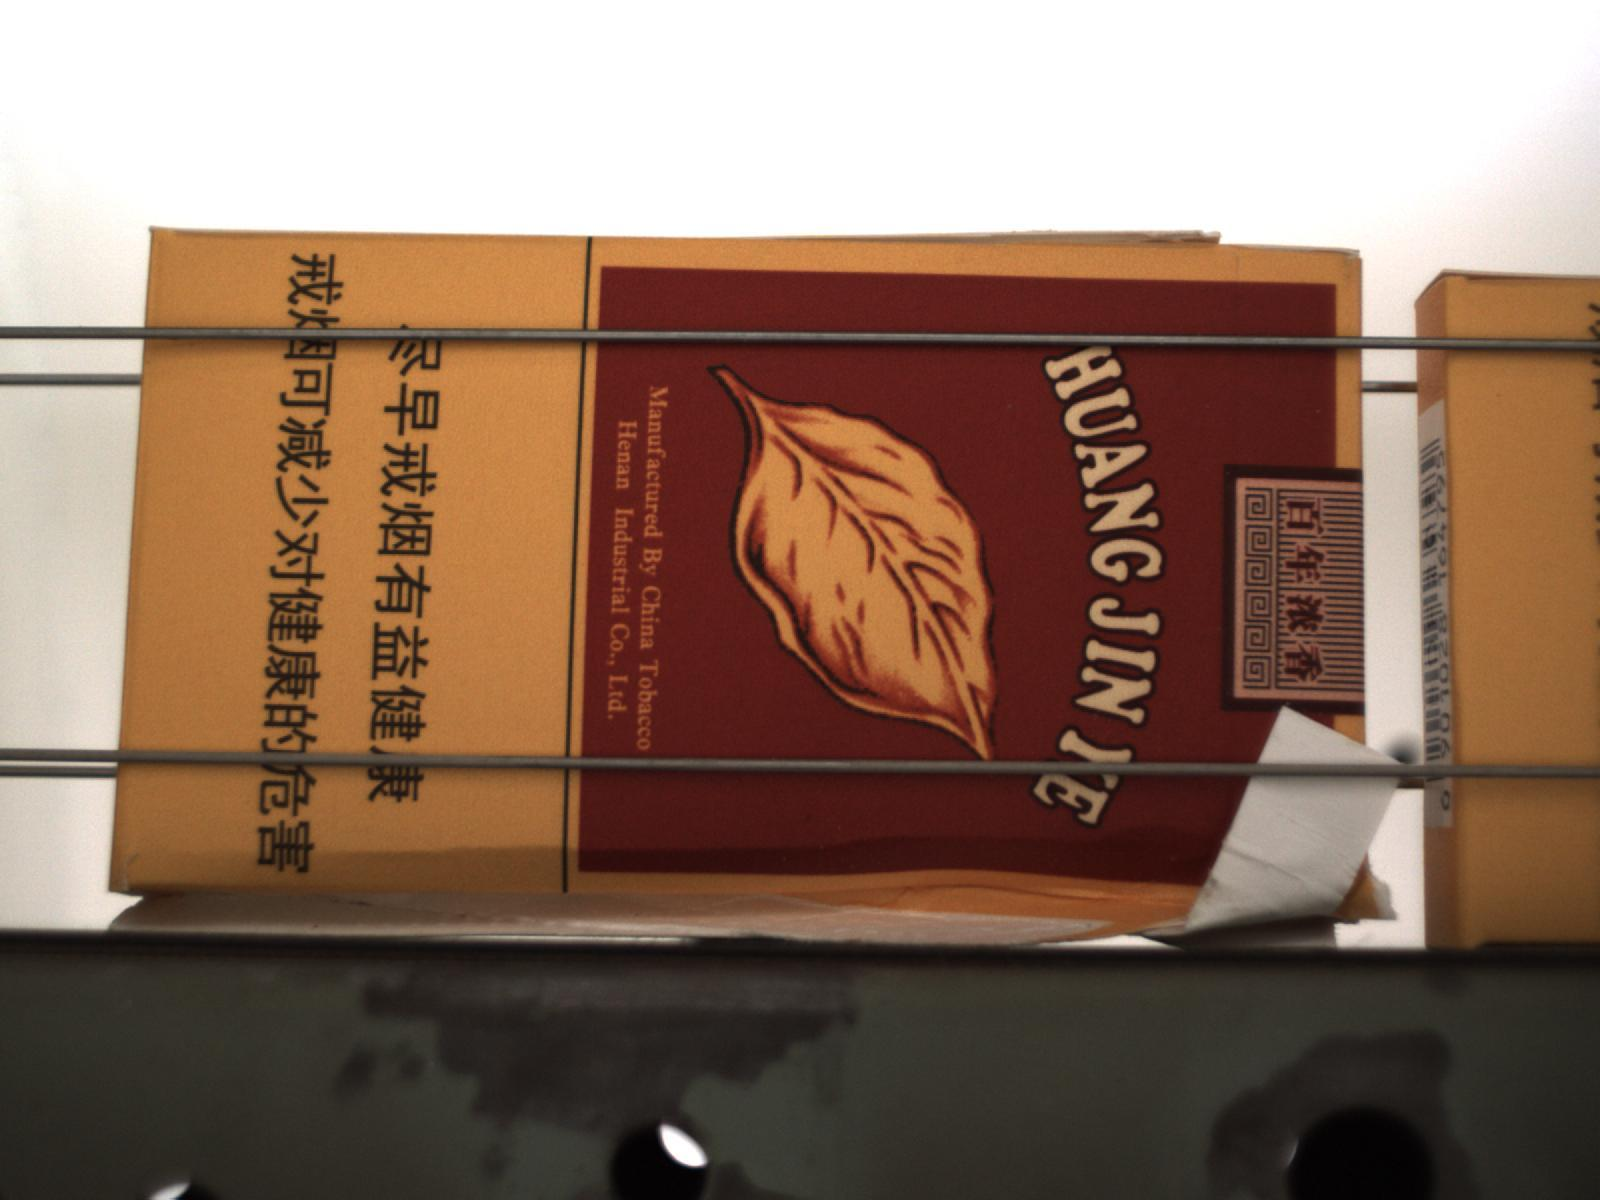bottomUpwarp_upper_1: (792, 227, 1230, 251)
boxDamage_back_heavy: (111, 827, 1255, 944)
frame: (1177, 705, 1414, 938)
